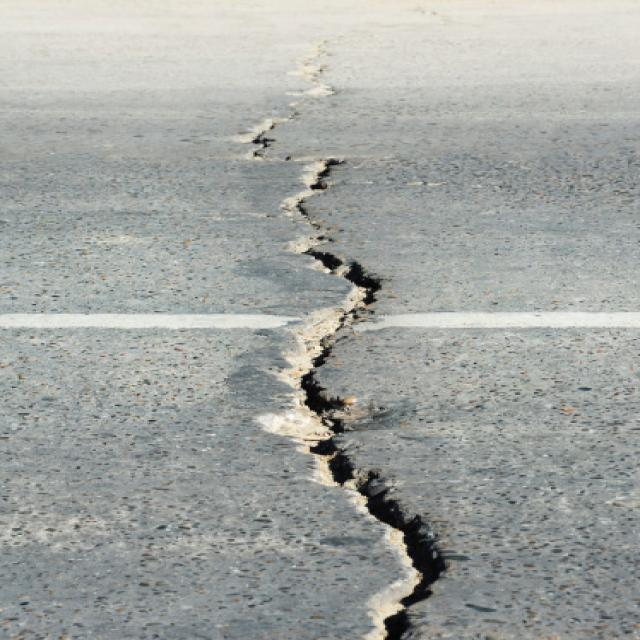Pothole: (156, 94, 604, 640)
